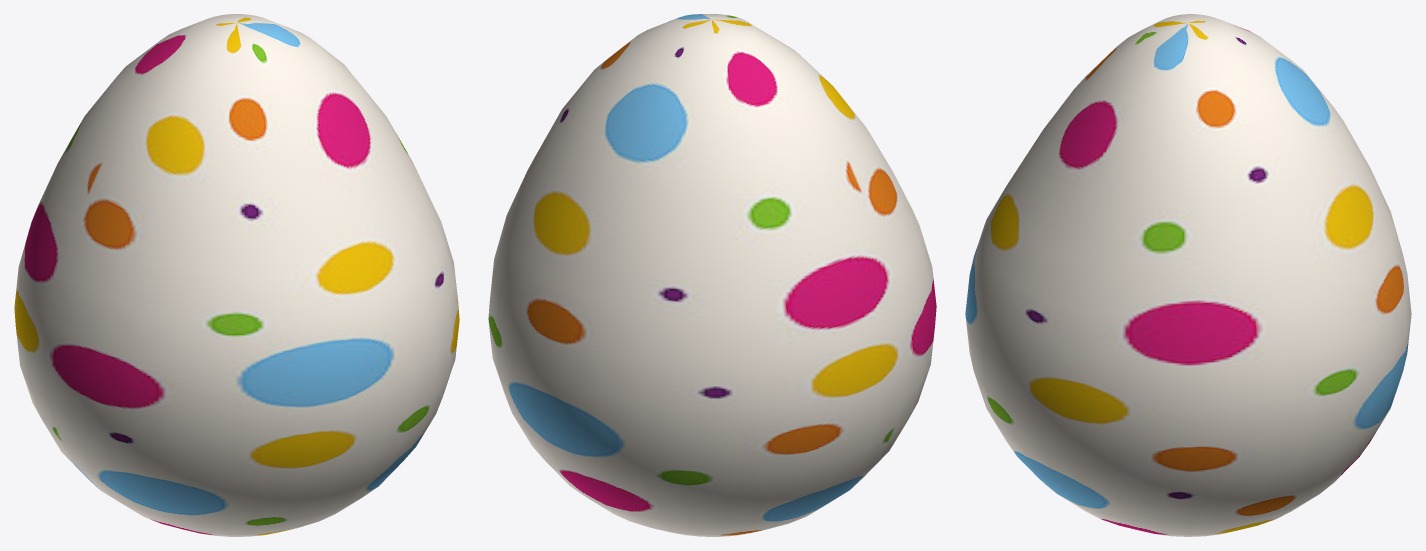
The model's file is spots_egg.glb.
The picture shows the model from 3 angles, left to right: view 1: azimuth 30°, elevation 25°; view 2: azimuth 150°, elevation 25°; view 3: azimuth 270°, elevation 25°; orthographic projection.
Visible parts, largest first — view 1: Sphere; view 2: Sphere; view 3: Sphere.
Part boxes in pixels (x1,y1,x2,y2): Sphere: (14, 14, 459, 536); Sphere: (488, 14, 936, 536); Sphere: (965, 14, 1411, 536).
Size of the model in its own units: 2 by 2.44 by 2.
1 material, 1 textured.
